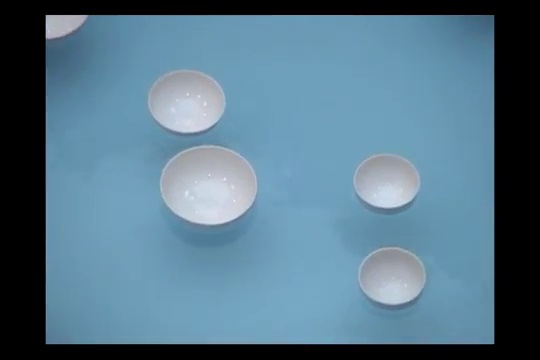bowl: (159, 144, 257, 233), (147, 69, 225, 138), (357, 247, 426, 312), (353, 153, 420, 216), (46, 15, 89, 43)
